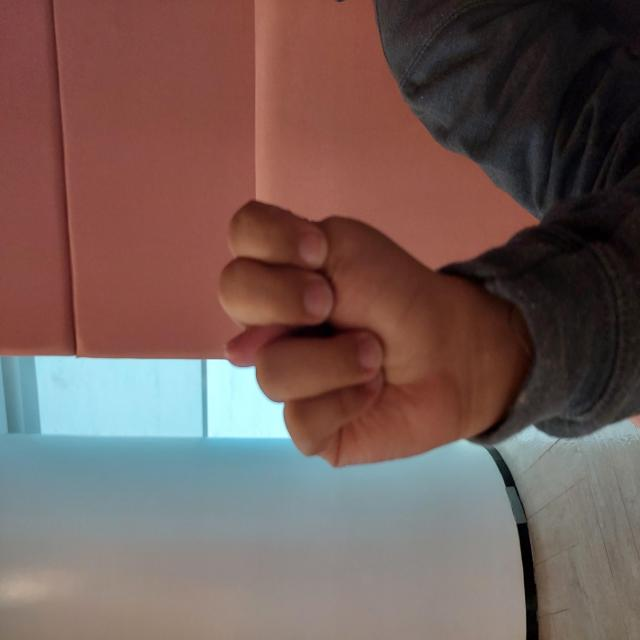N: (170, 213, 446, 477)
